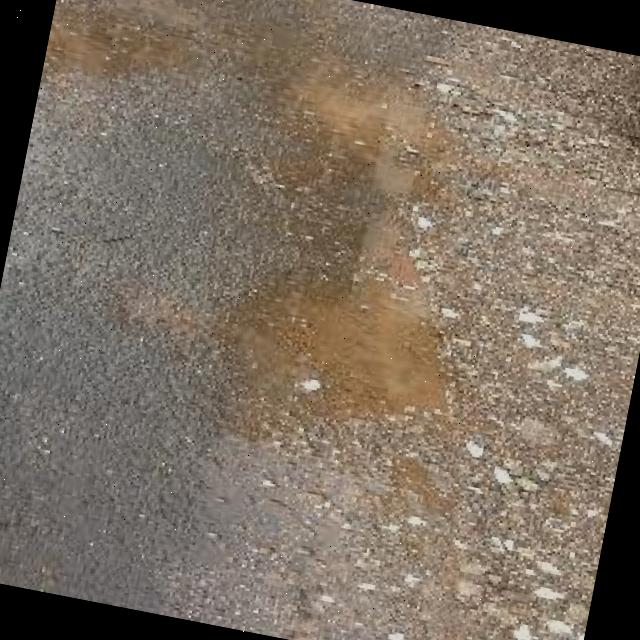stagnation: (174, 39, 473, 484)
